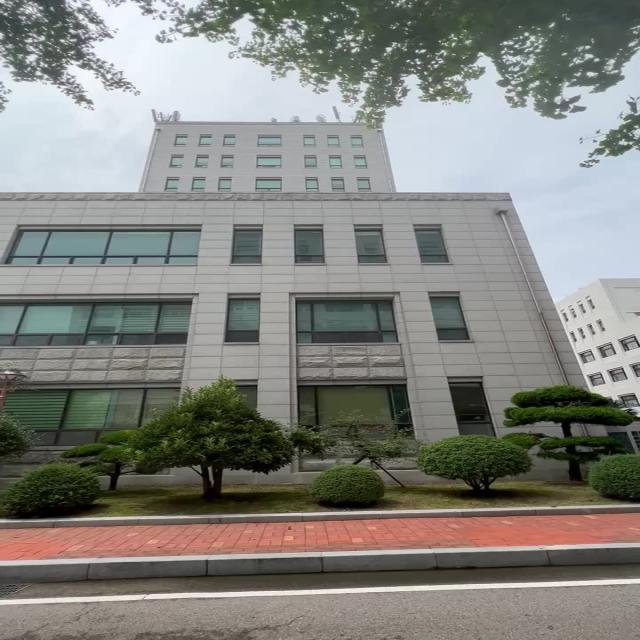building: (0, 111, 567, 386)
